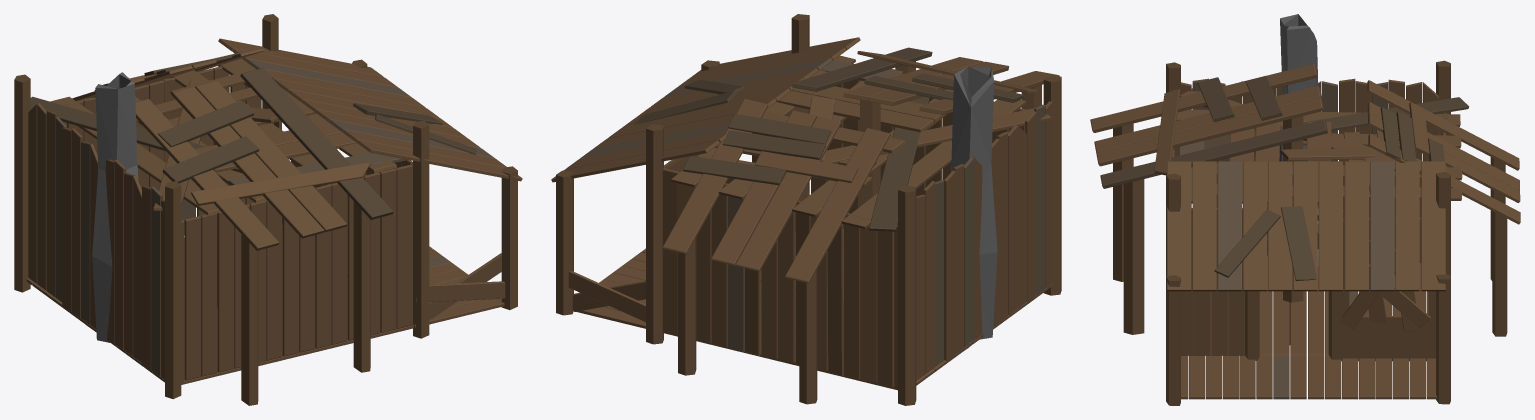
Rendered from ShackHighPoly.fbx.
The picture shows the model from 3 angles, left to right: view 1: azimuth 30°, elevation 25°; view 2: azimuth 150°, elevation 25°; view 3: azimuth 270°, elevation 25°; orthographic projection. The views are drawn at different scales.
Parts seen in each view (by area): view 1: polySurface1; view 2: polySurface1; view 3: polySurface1.
Part boxes in pixels (x1,y1,x2,y2): polySurface1: (14,14,522,405); polySurface1: (551,14,1061,405); polySurface1: (1090,14,1520,405).
Size of the model in its own units: 584 by 463 by 661.
